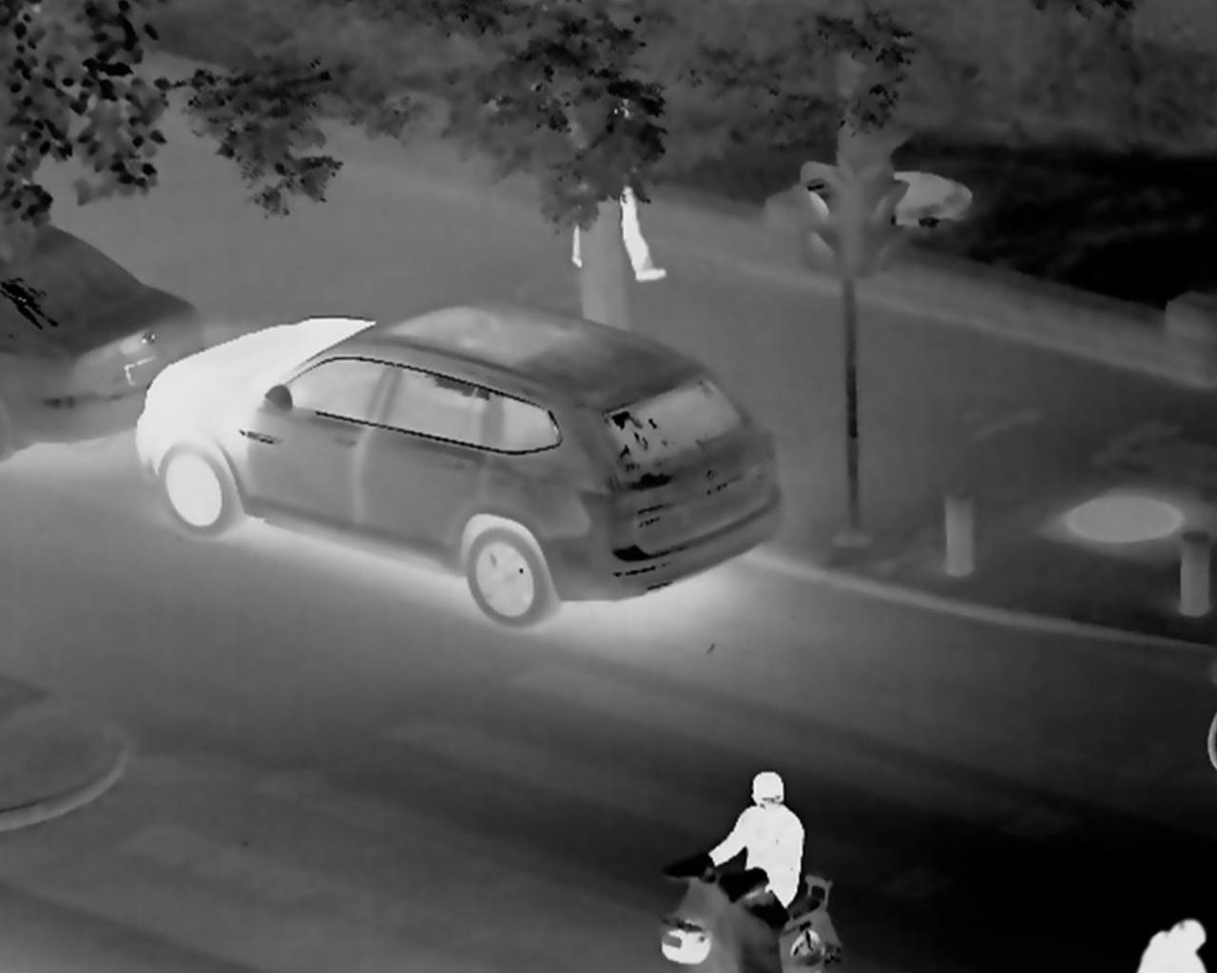person: (730, 755, 817, 906), (1147, 918, 1208, 973)
